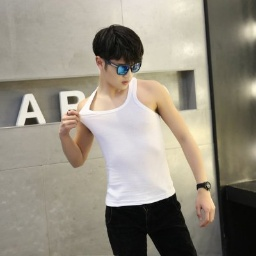face: (87, 22, 145, 92)
